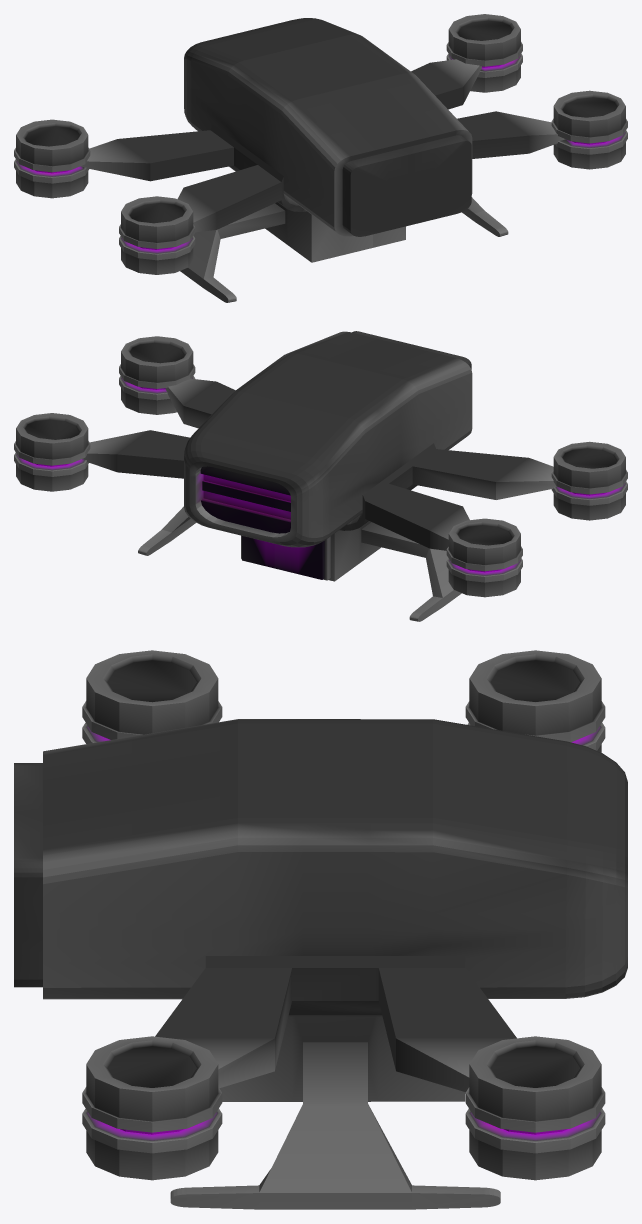
The model's file is Kate'sDrones.fbx.
3 views of the same model, one above another, from view 1: azimuth 30°, elevation 25°; view 2: azimuth 150°, elevation 25°; view 3: azimuth 270°, elevation 25° (orthographic). The views are drawn at different scales.
Parts seen in each view (by area): view 1: Drone; view 2: Drone; view 3: Drone.
Part boxes in pixels (x1=…): Drone: x1=14, y1=14, x2=627, y2=302; Drone: x1=14, y1=331, x2=627, y2=621; Drone: x1=14, y1=650, x2=627, y2=1209.
Size of the model in its own units: 362 by 119 by 211.
